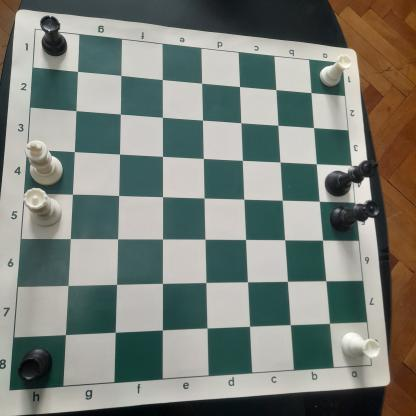black-king: (318, 156, 381, 199)
black-queen: (330, 197, 383, 239)
black-rook: (16, 344, 56, 386), (36, 12, 68, 58)
white-king: (21, 137, 67, 189)
white-queen: (21, 184, 64, 230)
white-rook: (338, 325, 382, 365), (316, 51, 353, 92)
